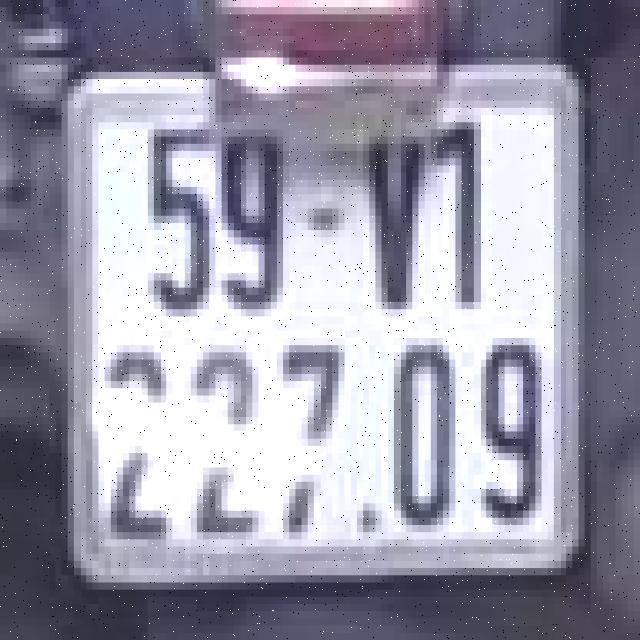0: (376, 342, 462, 536)
1: (440, 108, 495, 316)
2: (92, 341, 178, 543), (191, 345, 258, 539)
5: (130, 108, 216, 323)
7: (274, 334, 354, 543)
9: (212, 119, 298, 320), (468, 334, 554, 528)
V: (350, 126, 424, 313)
